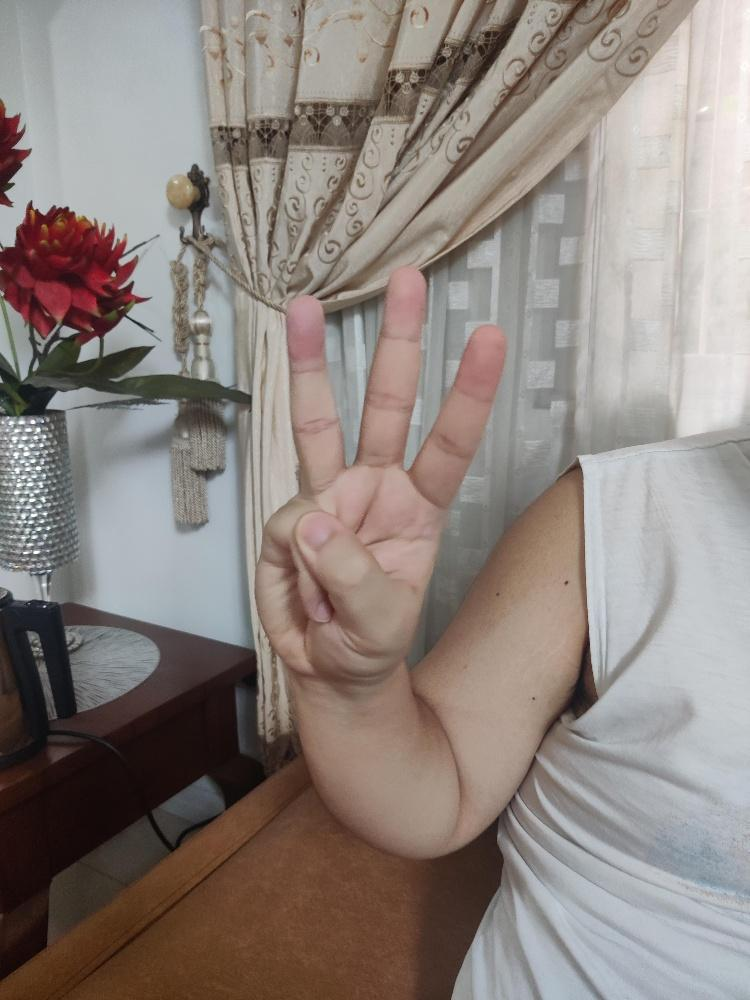w: (251, 263, 510, 680)
